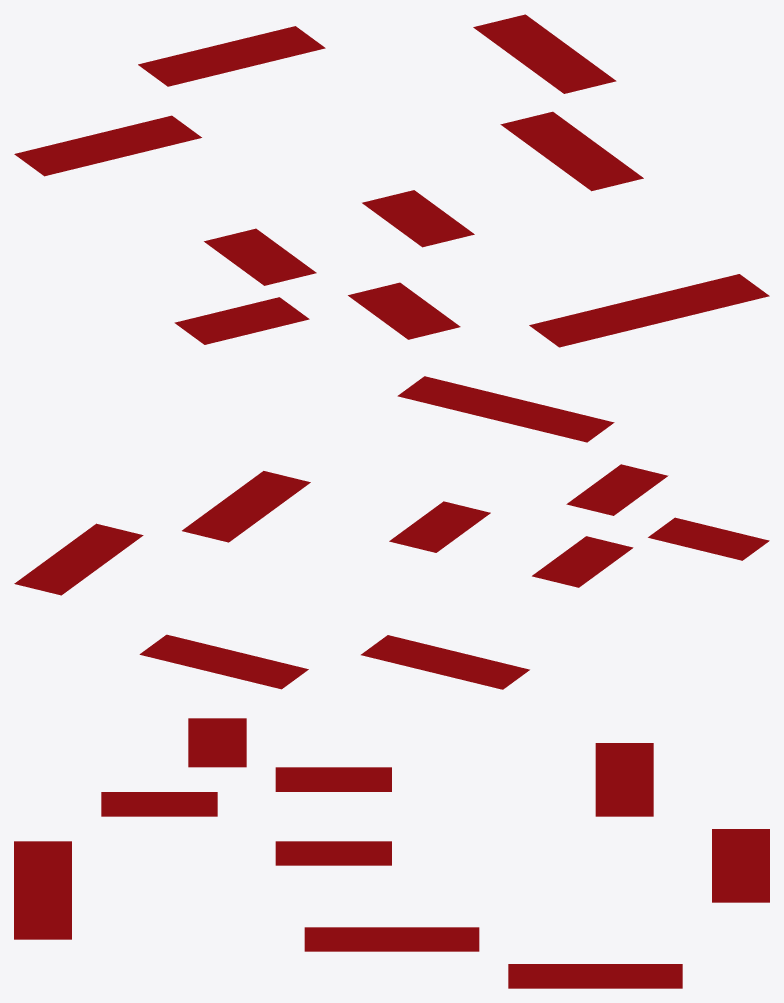
Rendered from terraibnlvl2tower_.fbx.
3 renders of one model, top to bottom at view 1: azimuth 30°, elevation 25°; view 2: azimuth 150°, elevation 25°; view 3: azimuth 270°, elevation 25°, orthographic. The views are drawn at different scales.
Parts seen in each view (by area): view 1: Plane.011; view 2: Plane.011; view 3: Plane.011.
Part boxes in pixels (<box>): Plane.011: <box>14,14,769,347</box>; Plane.011: <box>14,376,769,689</box>; Plane.011: <box>14,718,769,988</box>.
Bounding box in the file's own units: 11 × 13 × 0.
